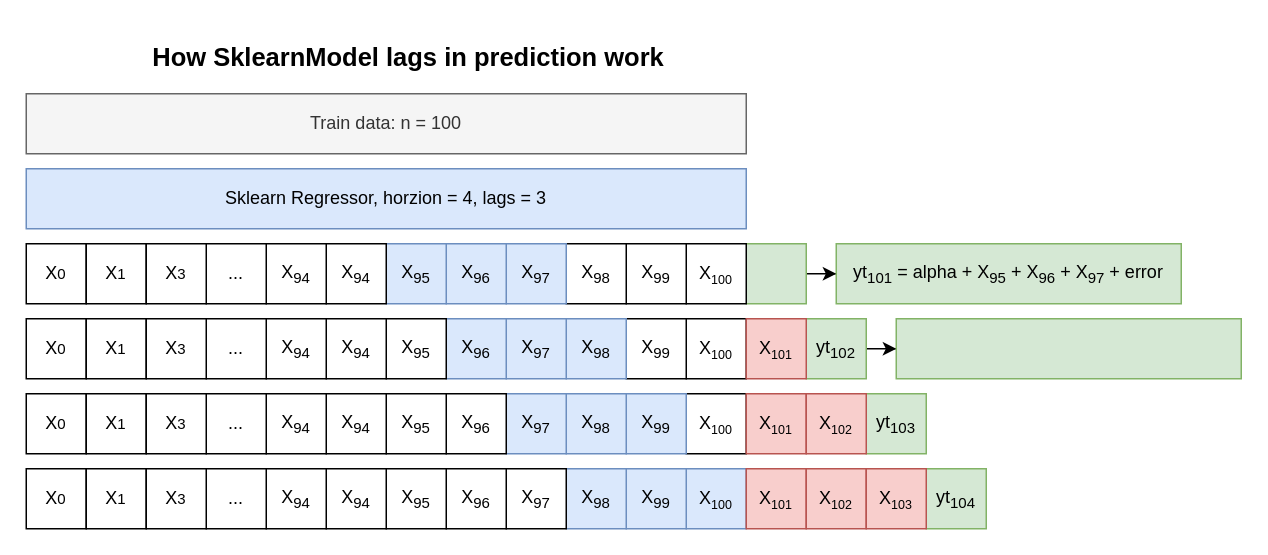
Some shapes in this 1268 by 555 pixel diagram are drawn without their labels. Here are the shapes that lost their labels. From the top down, the box of each, then its label:
(745, 242, 806, 304): yt 101
(895, 317, 1241, 379): yt 102 = alpha + X 95 + X 97 + X 98 + error
